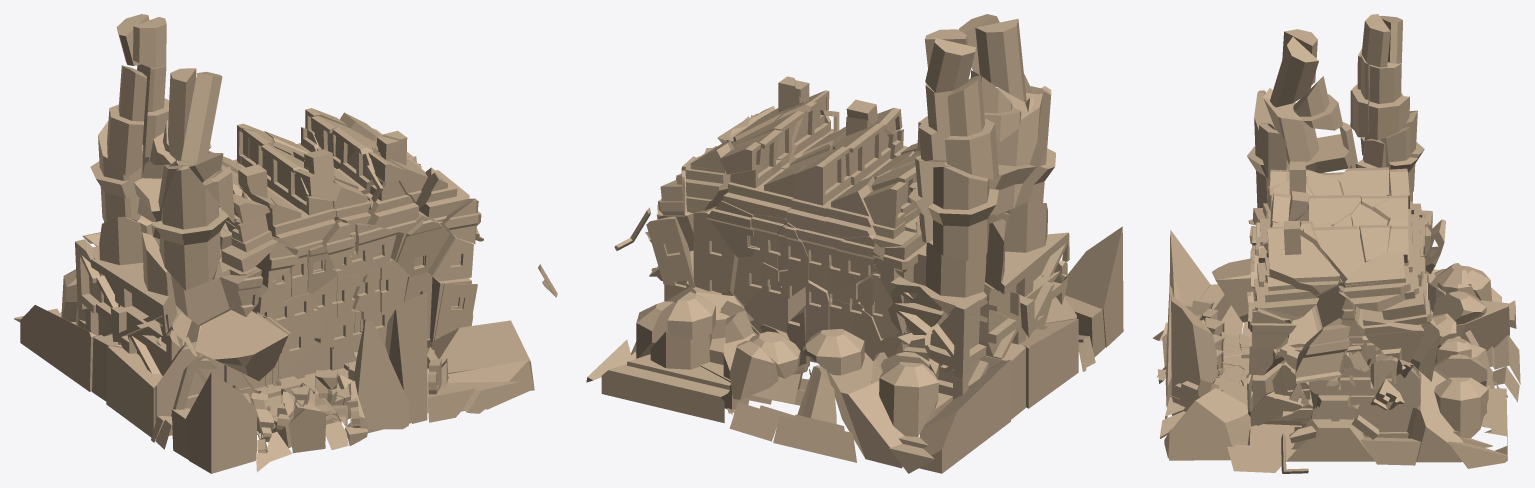
Rendered from Heavy_Industrial1-broken.fbx.
3 renders of one model, left to right at view 1: azimuth 30°, elevation 25°; view 2: azimuth 150°, elevation 25°; view 3: azimuth 270°, elevation 25°, orthographic. The views are drawn at different scales.
Visible parts, largest first — view 1: Heavy_Industrial_1_cell.161, Heavy_Industrial_1_cell.173, Heavy_Industrial_1_cell.178, Heavy_Industrial_1_cell.042, Heavy_Industrial_1_cell.123, Heavy_Industrial_1_cell.165, Heavy_Industrial_1_cell.072, Heavy_Industrial_1_cell.134, Heavy_Industrial_1_cell.169, Heavy_Industrial_1_cell.136, Heavy_Industrial_1_cell.125, Heavy_Industrial_1_cell.040 (+62 smaller); view 2: Heavy_Industrial_1_cell.137, Heavy_Industrial_1_cell.072, Heavy_Industrial_1_cell.173, Heavy_Industrial_1_cell.026, Heavy_Industrial_1_cell.102, Heavy_Industrial_1_cell.101, Heavy_Industrial_1_cell.038, Heavy_Industrial_1_cell.136, Heavy_Industrial_1_cell.178, Heavy_Industrial_1_cell.066, Heavy_Industrial_1_cell.169, Heavy_Industrial_1_cell.018 (+62 smaller); view 3: Heavy_Industrial_1_cell.134, Heavy_Industrial_1_cell.018, Heavy_Industrial_1_cell.020, Heavy_Industrial_1_cell.123, Heavy_Industrial_1_cell.142, Heavy_Industrial_1_cell.008, Heavy_Industrial_1_cell.182, Heavy_Industrial_1_cell.164, Heavy_Industrial_1_cell.186, Heavy_Industrial_1_cell.222, Heavy_Industrial_1_cell.090, Heavy_Industrial_1_cell.079 (+64 smaller).
Part boxes in pixels (x1,y1,x2,y2): Heavy_Industrial_1_cell.161: (153,165,228,290); Heavy_Industrial_1_cell.173: (90,216,177,333); Heavy_Industrial_1_cell.178: (185,372,256,473); Heavy_Industrial_1_cell.042: (194,310,288,380); Heavy_Industrial_1_cell.123: (385,292,427,423); Heavy_Industrial_1_cell.165: (354,320,409,429); Heavy_Industrial_1_cell.072: (20,305,97,391); Heavy_Industrial_1_cell.134: (431,320,534,390); Heavy_Industrial_1_cell.169: (106,346,162,437); Heavy_Industrial_1_cell.136: (107,65,146,175); Heavy_Industrial_1_cell.125: (265,194,336,249); Heavy_Industrial_1_cell.040: (155,341,254,438); Heavy_Industrial_1_cell.137: (601,331,730,423); Heavy_Industrial_1_cell.072: (919,359,1012,473); Heavy_Industrial_1_cell.173: (985,202,1069,296); Heavy_Industrial_1_cell.026: (928,166,998,260); Heavy_Industrial_1_cell.102: (883,232,986,323); Heavy_Industrial_1_cell.101: (879,362,938,473); Heavy_Industrial_1_cell.038: (826,352,904,468); Heavy_Industrial_1_cell.136: (945,75,998,179); Heavy_Industrial_1_cell.178: (1065,226,1123,347); Heavy_Industrial_1_cell.066: (773,367,856,462); Heavy_Industrial_1_cell.169: (1019,319,1078,408); Heavy_Industrial_1_cell.018: (989,88,1042,215); Heavy_Industrial_1_cell.134: (1169,388,1256,460); Heavy_Industrial_1_cell.018: (1263,98,1357,173); Heavy_Industrial_1_cell.020: (1265,222,1339,296); Heavy_Industrial_1_cell.123: (1171,295,1216,415); Heavy_Industrial_1_cell.142: (1407,370,1463,462); Heavy_Industrial_1_cell.008: (1286,417,1374,461); Heavy_Industrial_1_cell.182: (1368,62,1409,140); Heavy_Industrial_1_cell.164: (1434,377,1488,438); Heavy_Industrial_1_cell.186: (1295,318,1350,386); Heavy_Industrial_1_cell.222: (1227,424,1301,472); Heavy_Industrial_1_cell.090: (1263,37,1318,107); Heavy_Industrial_1_cell.079: (1361,309,1424,362).
Size of the model in its own units: 5454 by 4413 by 4523.
